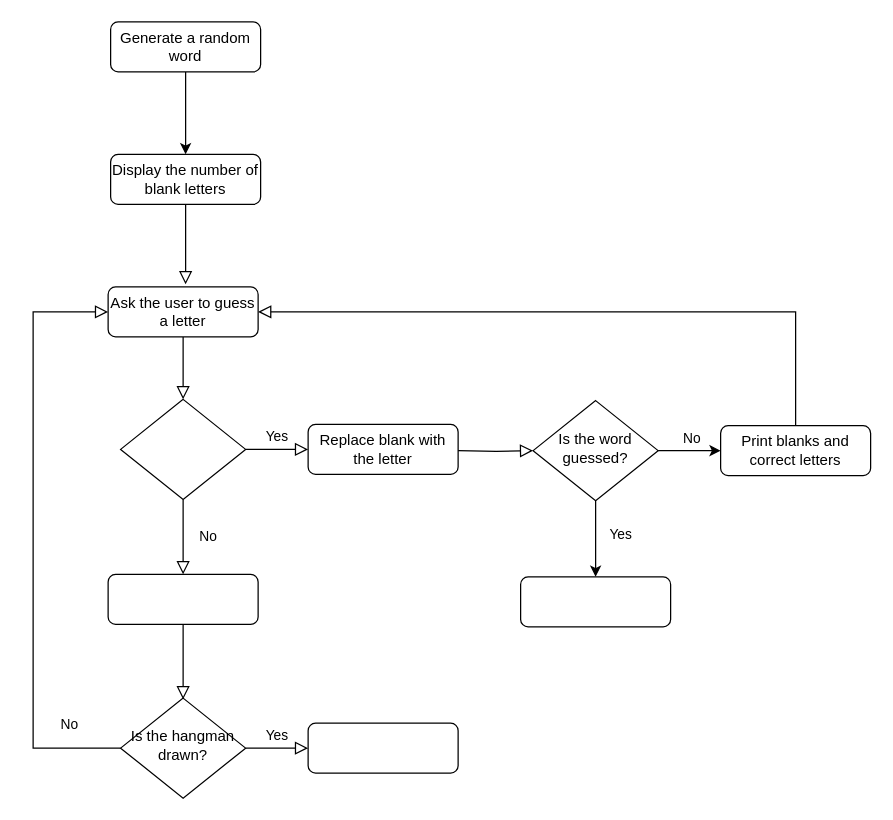
The diagram is 893 pixels wide and 820 high, and some of its shapes have lost their labels. The shapes that lost their labels are listed below. From the top down, each one's box as (x1, y1, x2, y2) in pixels, then its label:
(119, 398, 246, 499): Is the letter in the word?
(107, 573, 258, 624): Draw a body part
(519, 576, 671, 627): WINNER
(307, 722, 458, 773): LOSER
